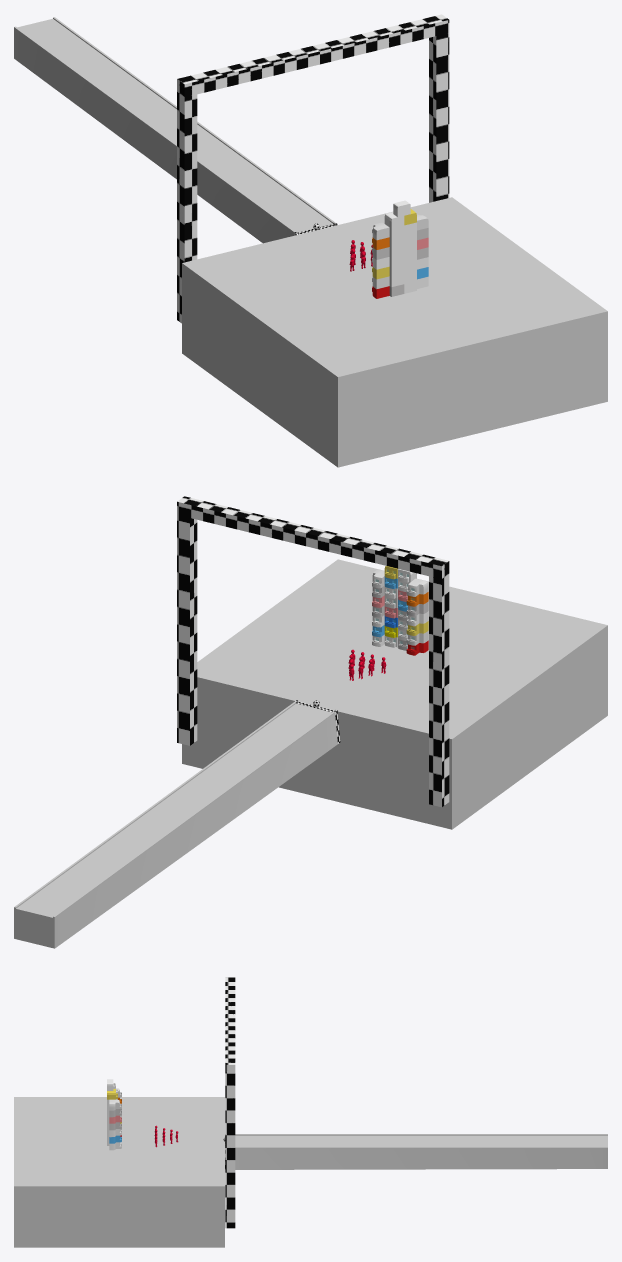
File: back.fbx
The picture shows the model from 3 angles, top to bottom: view 1: azimuth 30°, elevation 25°; view 2: azimuth 150°, elevation 25°; view 3: azimuth 270°, elevation 25°; orthographic projection. The views are drawn at different scales.
Visible parts, largest first — view 1: pin_zone, running_road, goalpost, building; view 2: pin_zone, running_road, goalpost, building; view 3: pin_zone, running_road, goalpost, building.
Boxes of the visible parts, x1,y1,x2,y2 form: pin_zone: (182,197,607,467); running_road: (14,17,334,243); goalpost: (177,14,449,323); building: (372,200,428,298); pin_zone: (182,559,607,829); running_road: (14,702,337,948); goalpost: (177,496,449,807); building: (372,566,428,655); pin_zone: (14,1097,224,1247); running_road: (235,1134,607,1169); goalpost: (225,977,235,1228); building: (107,1079,121,1150).
Size of the model in its own units: 1438 by 1365 by 4045.
